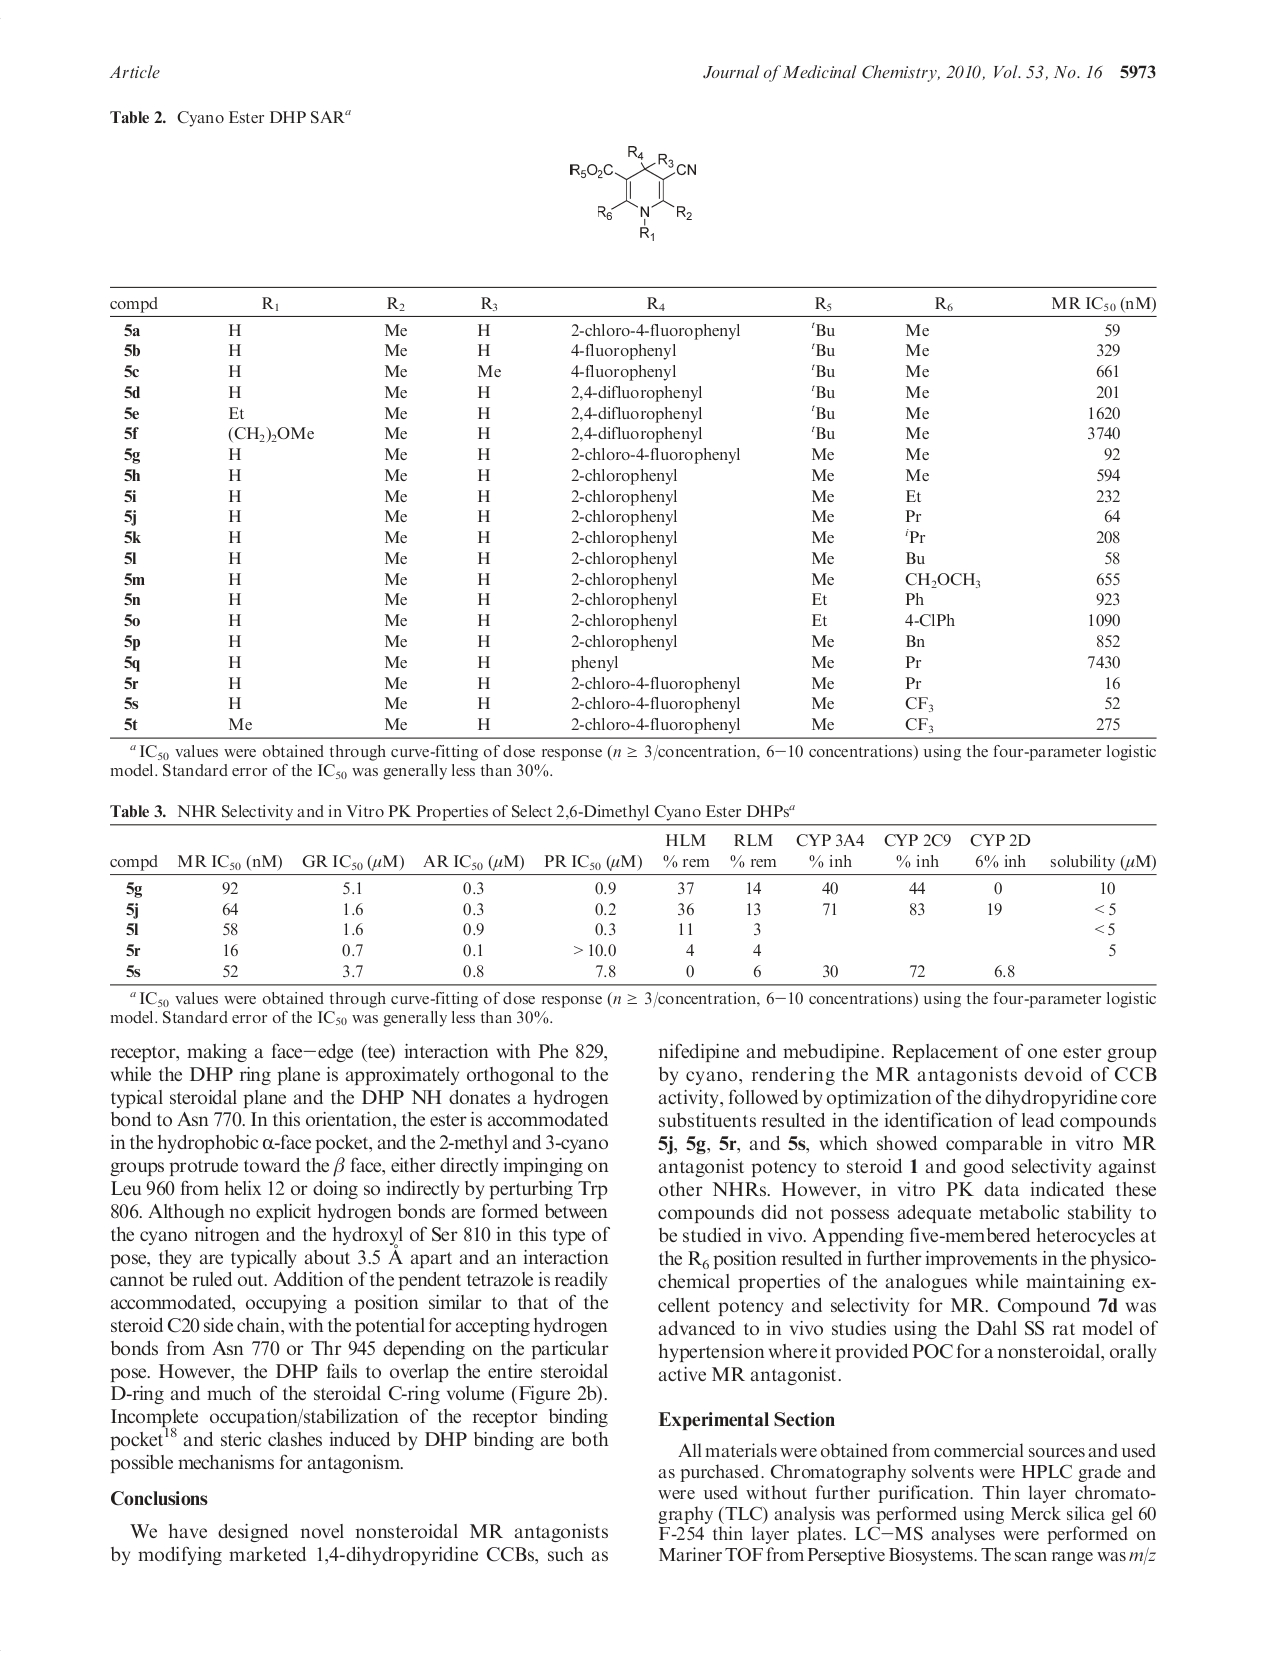exist_molecular: (567, 144, 699, 243)
